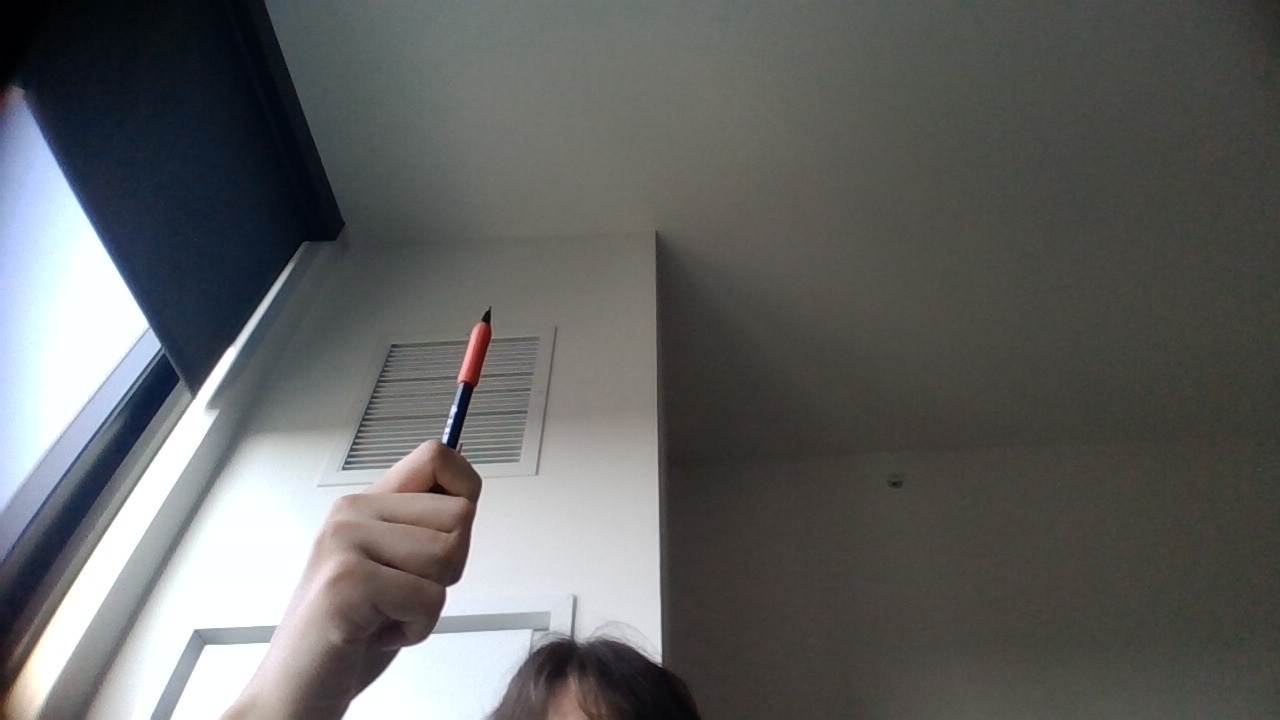Red Mechanical Pencil: (437, 303, 496, 453)
